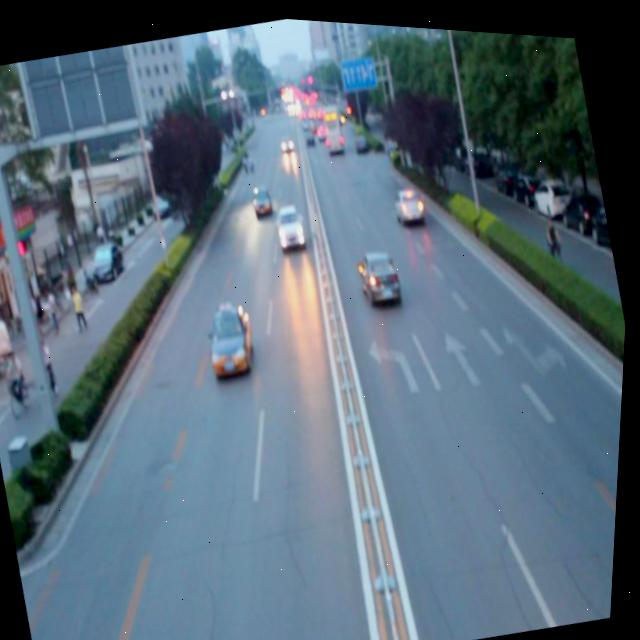car: (201, 294, 264, 377), (355, 237, 407, 304), (271, 195, 310, 250), (390, 177, 429, 222), (249, 179, 276, 217)
